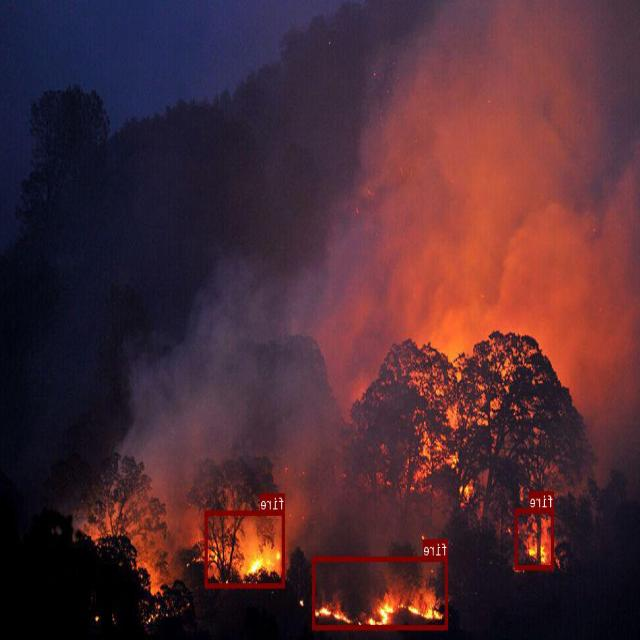fire: (313, 556, 448, 630), (206, 510, 285, 587), (516, 508, 554, 569)
